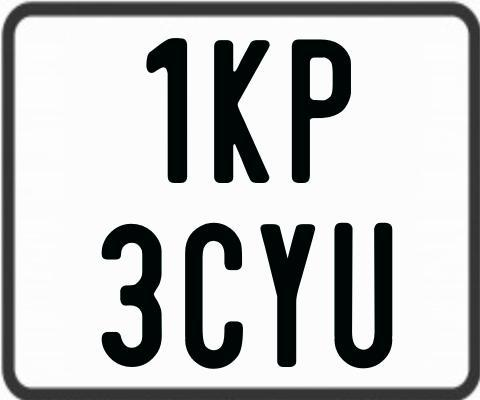1: (143, 38, 185, 184)
3: (102, 223, 164, 372)
C: (183, 223, 241, 372)
K: (212, 38, 271, 182)
P: (292, 36, 354, 185)
U: (333, 223, 392, 373)
Y: (257, 222, 314, 365)
